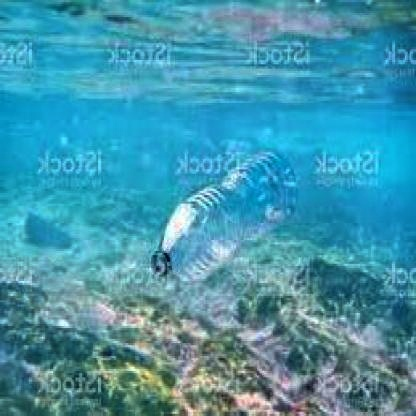pbottle: (143, 146, 300, 285)
